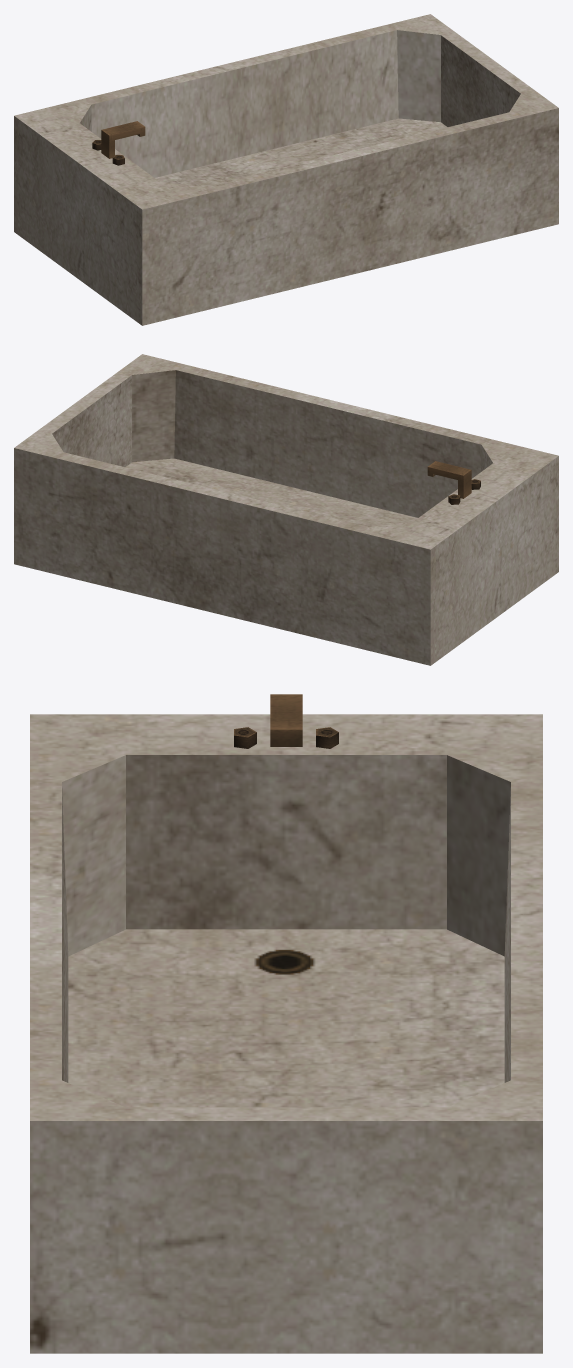
Rendered from bath.fbx.
3 views of the same model, one above another, from view 1: azimuth 30°, elevation 25°; view 2: azimuth 150°, elevation 25°; view 3: azimuth 270°, elevation 25° (orthographic). The views are drawn at different scales.
Parts seen in each view (by area): view 1: bath.001; view 2: bath.001; view 3: bath.001.
Boxes of the visible parts, x1,y1,x2,y2 form: bath.001: [14, 14, 558, 325]; bath.001: [14, 354, 558, 665]; bath.001: [30, 694, 542, 1353].
Size of the model in its own units: 1.66 by 0.5321 by 0.8868.
Materials: 2 (2 with a texture image).
